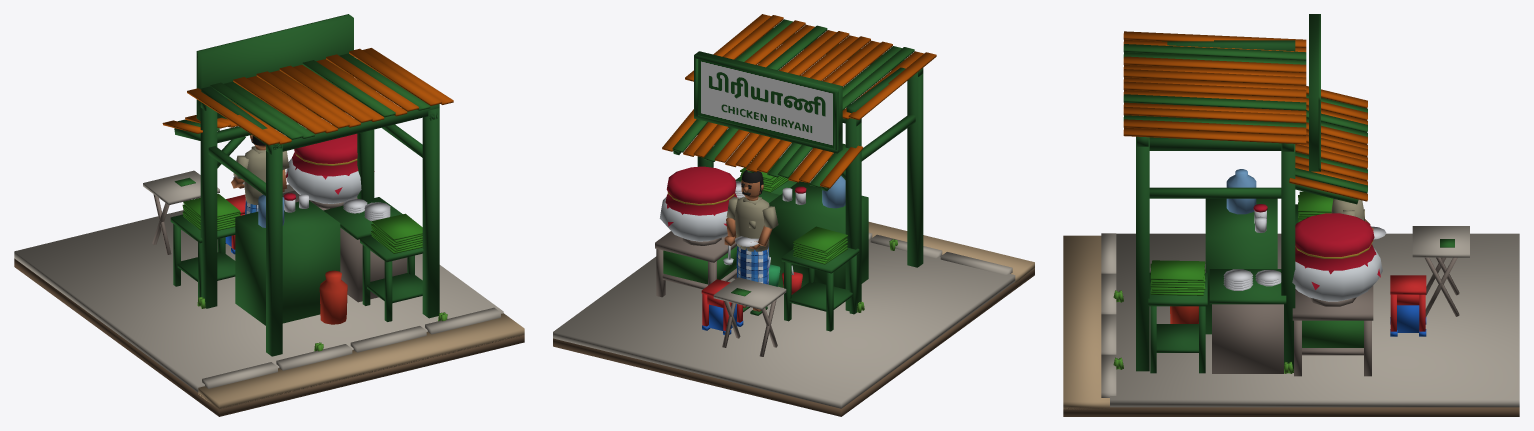
File: biryani_stall_b.glb
The picture shows the model from 3 angles, left to right: view 1: azimuth 30°, elevation 25°; view 2: azimuth 150°, elevation 25°; view 3: azimuth 270°, elevation 25°; orthographic projection. The views are drawn at different scales.
Visible parts, largest first — view 1: stall; view 2: stall, sign, lungi; view 3: stall.
Part boxes in pixels (left/top/right/bottom): stall: left=14, top=14, right=524, bottom=416; stall: left=553, top=14, right=1034, bottom=416; sign: left=698, top=59, right=834, bottom=148; lungi: left=736, top=246, right=769, bottom=306; stall: left=1063, top=14, right=1519, bottom=416.
Bounding box in the file's own units: 3.7 × 2.99 × 4.3.
Materials: 3 (2 with a texture image).
